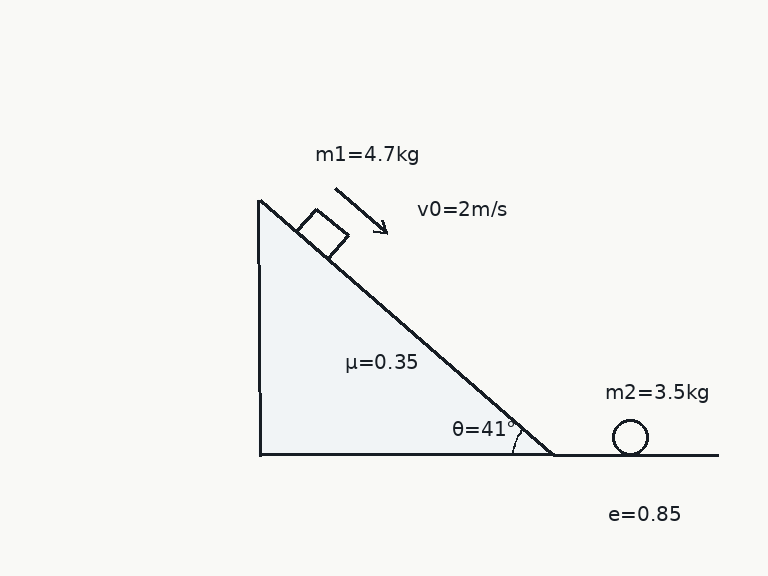ball: (610, 417, 650, 457)
block: (294, 206, 349, 261)
ramp: (257, 197, 555, 457)
